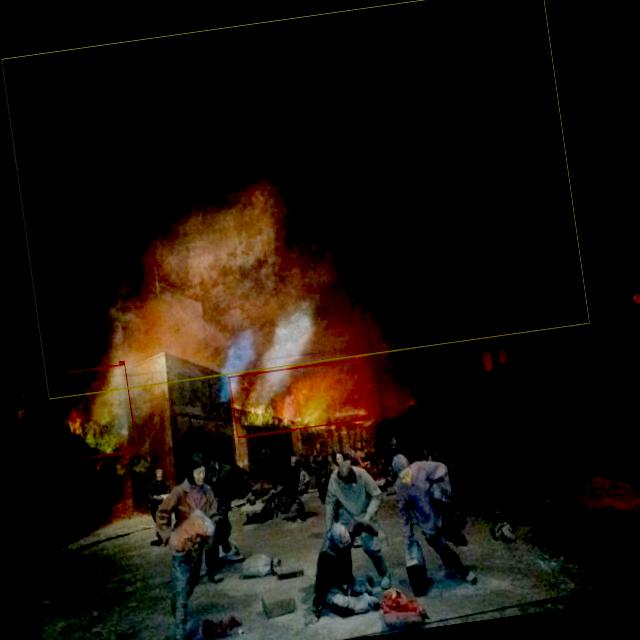fire: (229, 358, 370, 438), (66, 364, 138, 458)
smoke: (1, 0, 590, 399)
